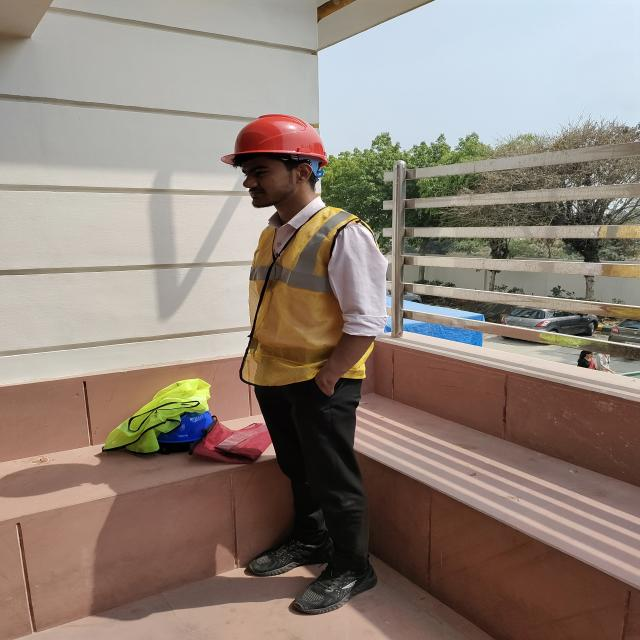safe: (221, 114, 389, 617)
